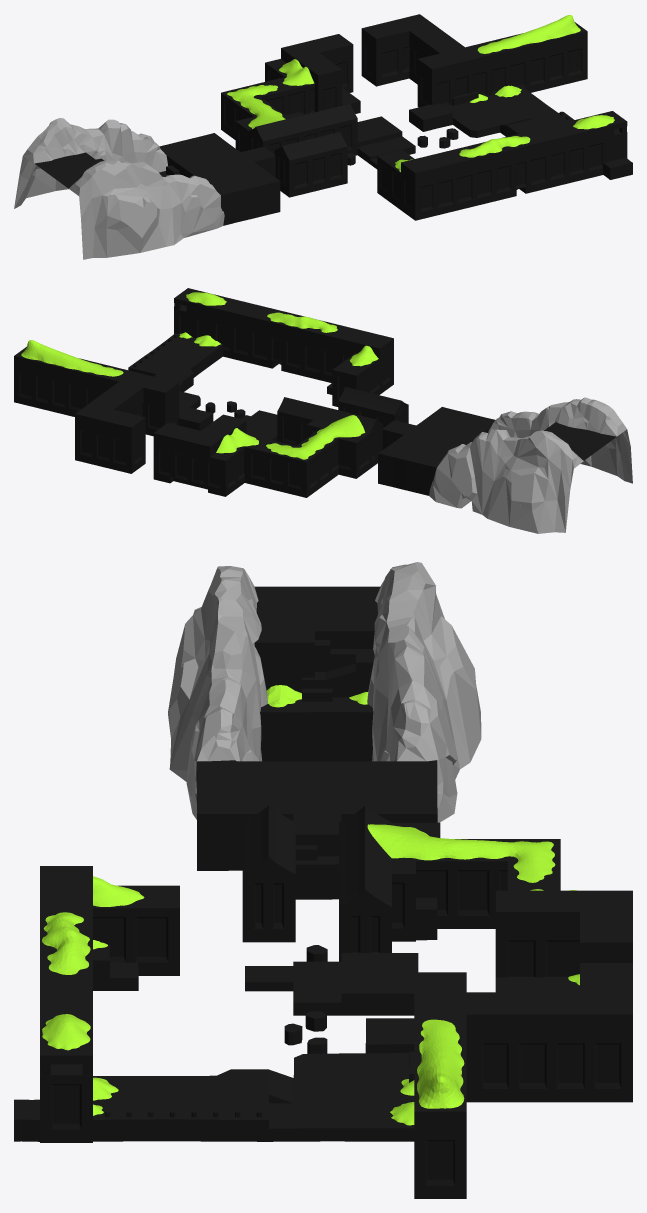
Rendered from LavaWorldHomeGround000.obj.obj.
3 views of the same model, one above another, from view 1: azimuth 30°, elevation 25°; view 2: azimuth 150°, elevation 25°; view 3: azimuth 270°, elevation 25° (orthographic). The views are drawn at different scales.
Size of the model in its own units: 24740 by 3757 by 12842.
